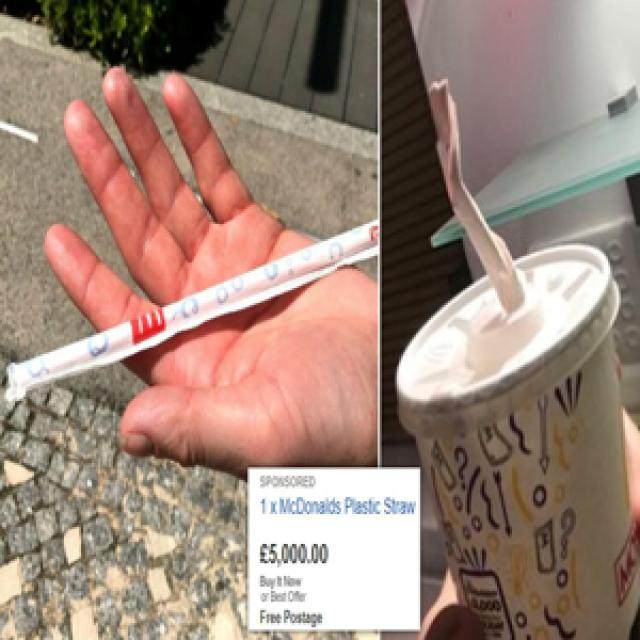plastic cup: (384, 228, 640, 632)
